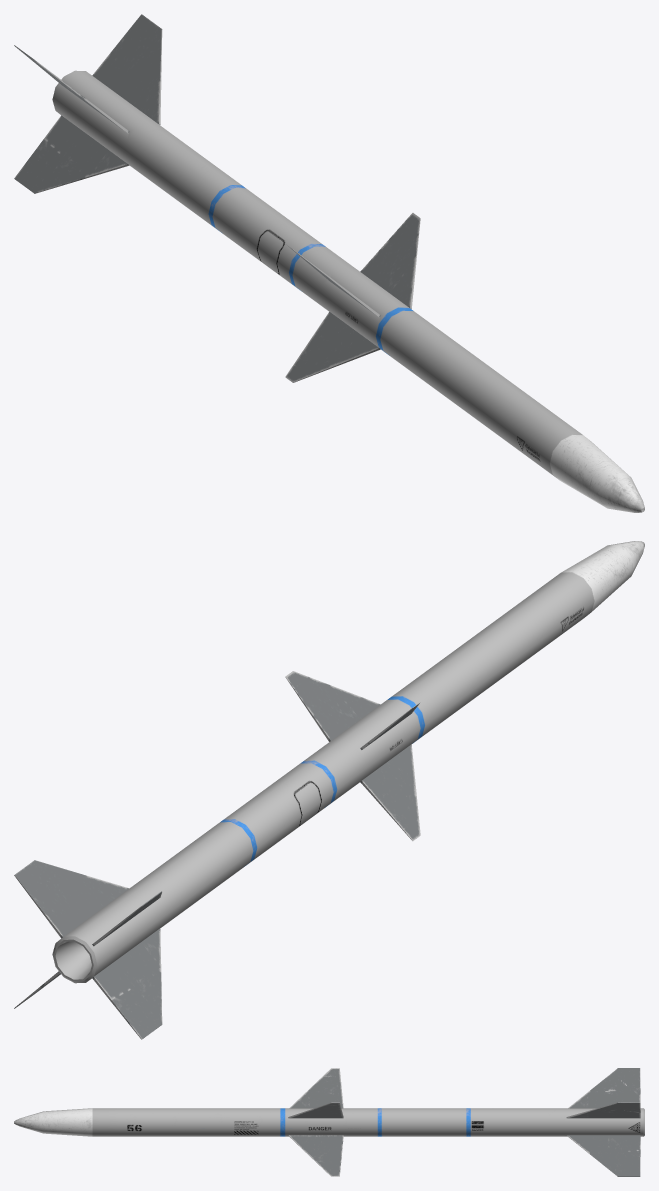
Rendered from AIM-120 AMRAAM.fbx.
3 renders of one model, top to bottom at view 1: azimuth 30°, elevation 25°; view 2: azimuth 150°, elevation 25°; view 3: azimuth 270°, elevation 25°, orthographic. The views are drawn at different scales.
Parts seen in each view (by area): view 1: AIM-120 AMRAAM; view 2: AIM-120 AMRAAM; view 3: AIM-120 AMRAAM.
Boxes of the visible parts, x1,y1,x2,y2 form: AIM-120 AMRAAM: [14, 14, 644, 512]; AIM-120 AMRAAM: [14, 541, 644, 1039]; AIM-120 AMRAAM: [14, 1068, 644, 1176].
Size of the model in its own units: 37.79 by 37.79 by 291.
Materials: 1 (1 with a texture image).
